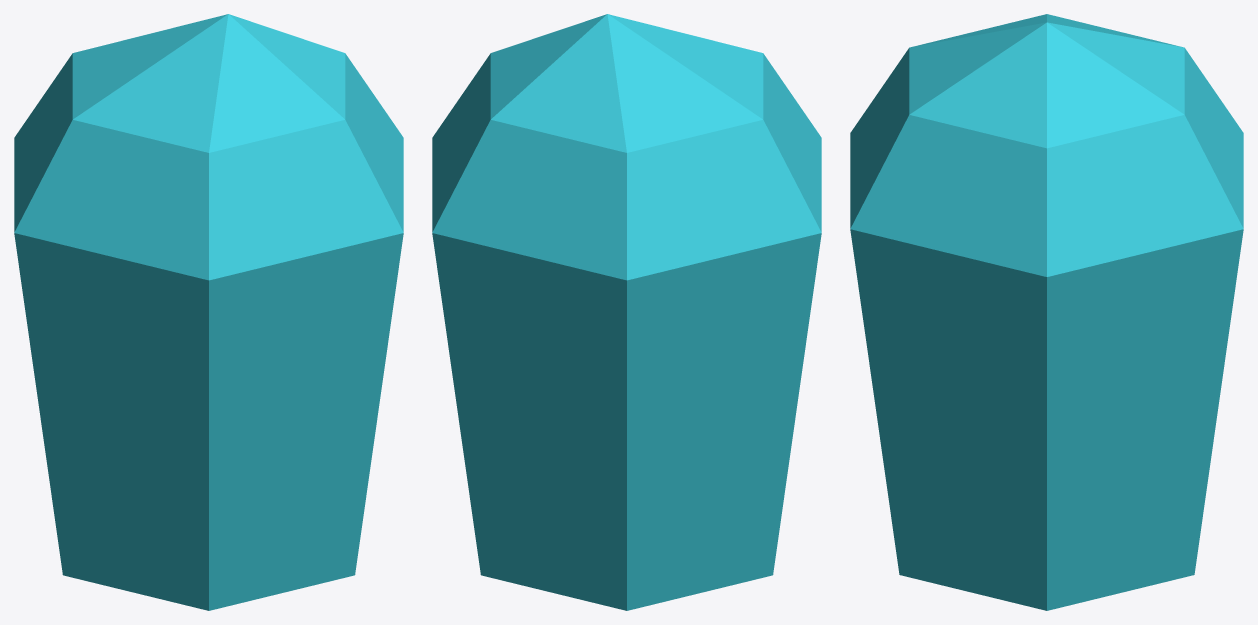
The model's file is CrystalDrop.fbx.
3 renders of one model, left to right at view 1: azimuth 30°, elevation 25°; view 2: azimuth 150°, elevation 25°; view 3: azimuth 270°, elevation 25°, orthographic.
Visible parts, largest first — view 1: Drop; view 2: Drop; view 3: Drop.
Part boxes in pixels (bbox=[...]): Drop: bbox=[14, 14, 403, 610]; Drop: bbox=[432, 14, 821, 610]; Drop: bbox=[850, 14, 1243, 610].
Bounding box in the file's own units: 36 × 46 × 31.18.
